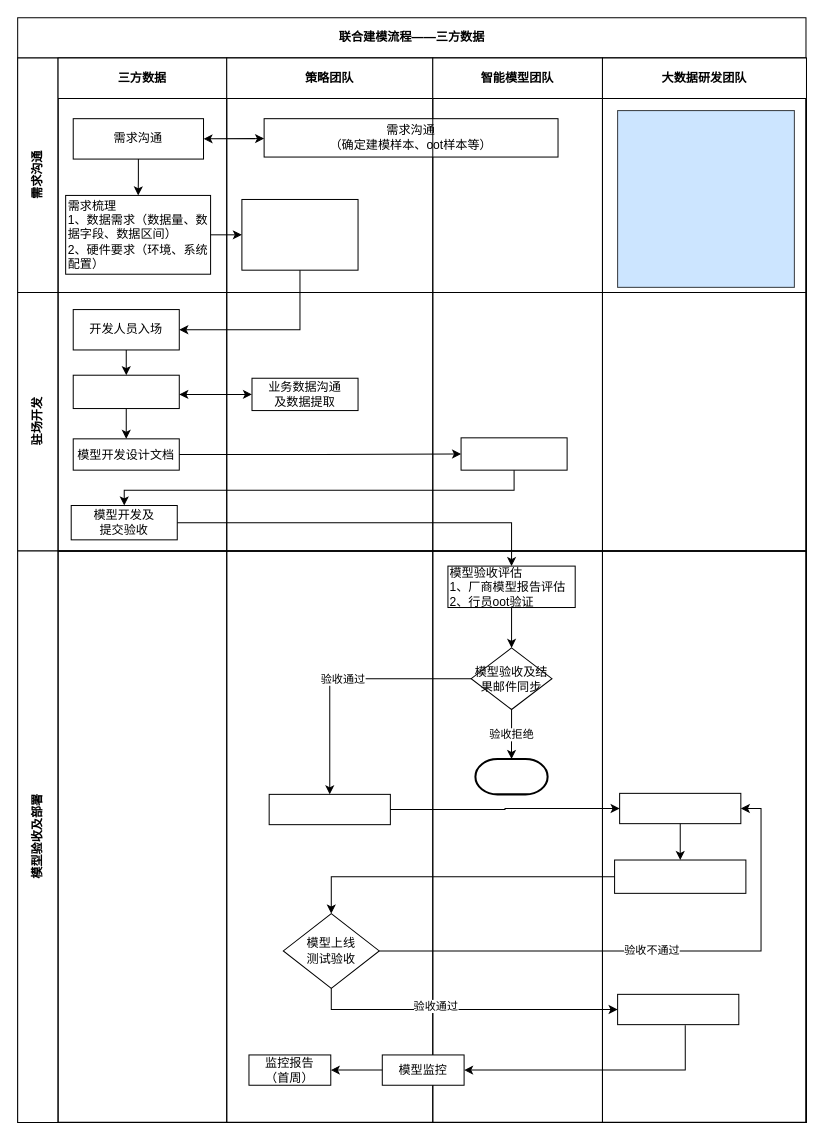
This 824x1140 diagram has some shape labels left out. The shapes that lost their labels are listed below. From the top down, each one's centre as x and y in pixels, then its label:
the point at 705,198: 项目对接人 智能模型团队：李诗宇 大数据研发团队：许索晗 策略团队：项目策略经理 三方数据：厂商项目经理
the point at 299,234: 入场前准备 1、内部OA审批 2、数据提取及加密 3、环境、权限准备 4、人员入场审批
the point at 125,391: 模型开发前沟通
the point at 513,453: 模型开发 设计文档审查
the point at 511,776: 终止/ 重新开发
the point at 329,809: 模型部署字段梳理
the point at 680,808: 模型字段部署 需求开发
the point at 680,876: 字段测试
the point at 678,1009: 模型上线
